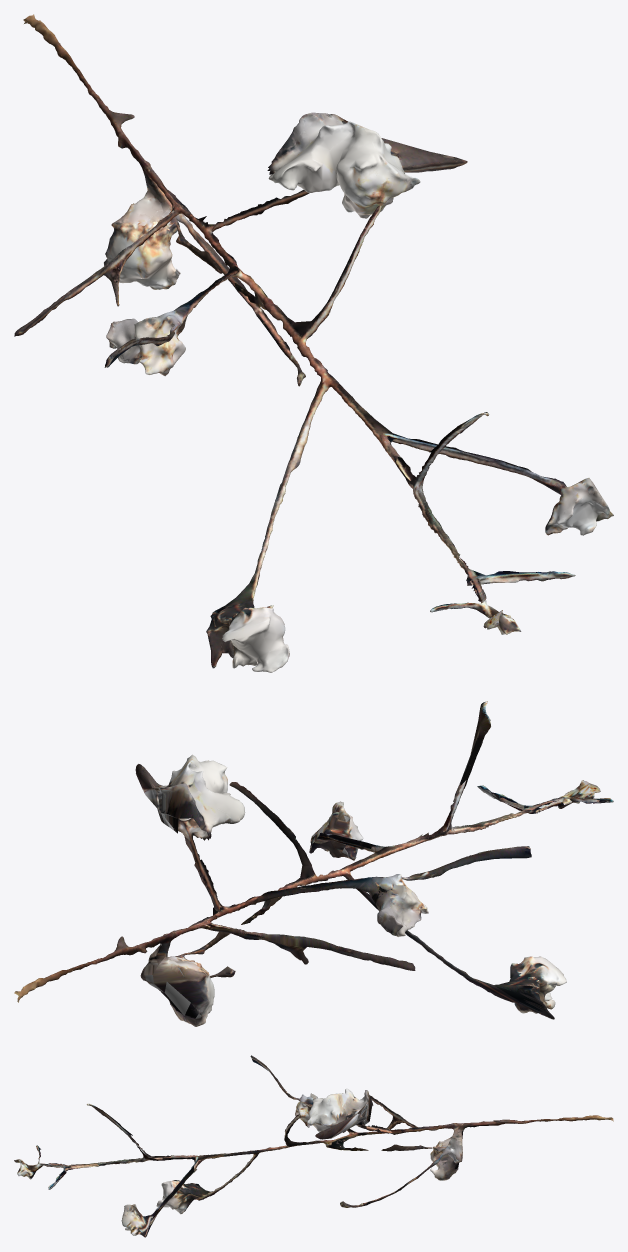
The model's file is plant_19_grouped.obj.
3 renders of one model, top to bottom at view 1: azimuth 30°, elevation 25°; view 2: azimuth 150°, elevation 25°; view 3: azimuth 270°, elevation 25°, orthographic. The views are drawn at different scales.
Parts seen in each view (by area): view 1: Cotton_Remaining, Cotton_Boll_Part; view 2: Cotton_Remaining, Cotton_Boll_Part; view 3: Cotton_Remaining, Cotton_Boll_Part.
Boxes of the visible parts, box(x1,y1,x2,y2) form: Cotton_Remaining: box(14, 14, 575, 668); Cotton_Boll_Part: box(104, 112, 613, 672); Cotton_Remaining: box(14, 701, 613, 1019); Cotton_Boll_Part: box(141, 754, 566, 1026); Cotton_Remaining: box(14, 1055, 613, 1237); Cotton_Boll_Part: box(121, 1088, 461, 1235).
Bounding box in the file's own units: 1.51 × 1.24 × 3.65.
Materials: 1 (1 with a texture image).
